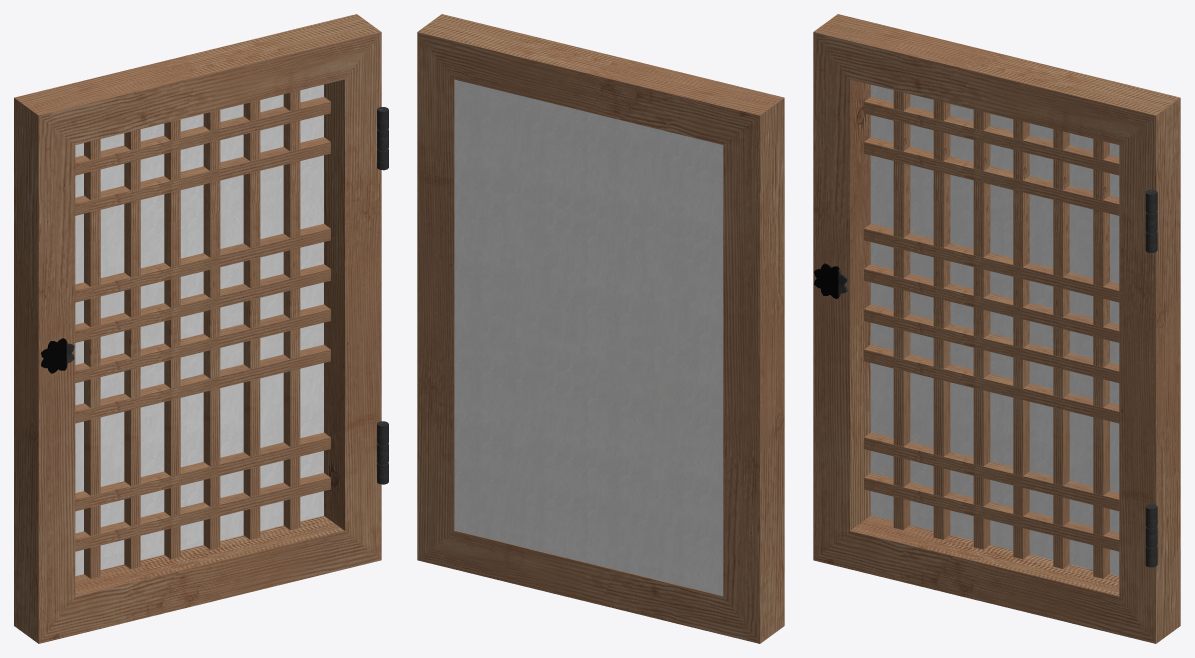
Rendered from SM_Yeonkyung_O_Haenggak_Win_B_001.fbx.
3 renders of one model, left to right at view 1: azimuth 30°, elevation 25°; view 2: azimuth 150°, elevation 25°; view 3: azimuth 330°, elevation 25°, orthographic.
Visible parts, largest first — view 1: SM_Yeonkyung_O_Haenggak_Win_B_001; view 2: SM_Yeonkyung_O_Haenggak_Win_B_001; view 3: SM_Yeonkyung_O_Haenggak_Win_B_001.
Part boxes in pixels (bbox=[...]): SM_Yeonkyung_O_Haenggak_Win_B_001: bbox=[14, 14, 388, 643]; SM_Yeonkyung_O_Haenggak_Win_B_001: bbox=[417, 14, 784, 643]; SM_Yeonkyung_O_Haenggak_Win_B_001: bbox=[813, 14, 1180, 643].
Size of the model in its own units: 40.57 by 59.12 by 6.2.
